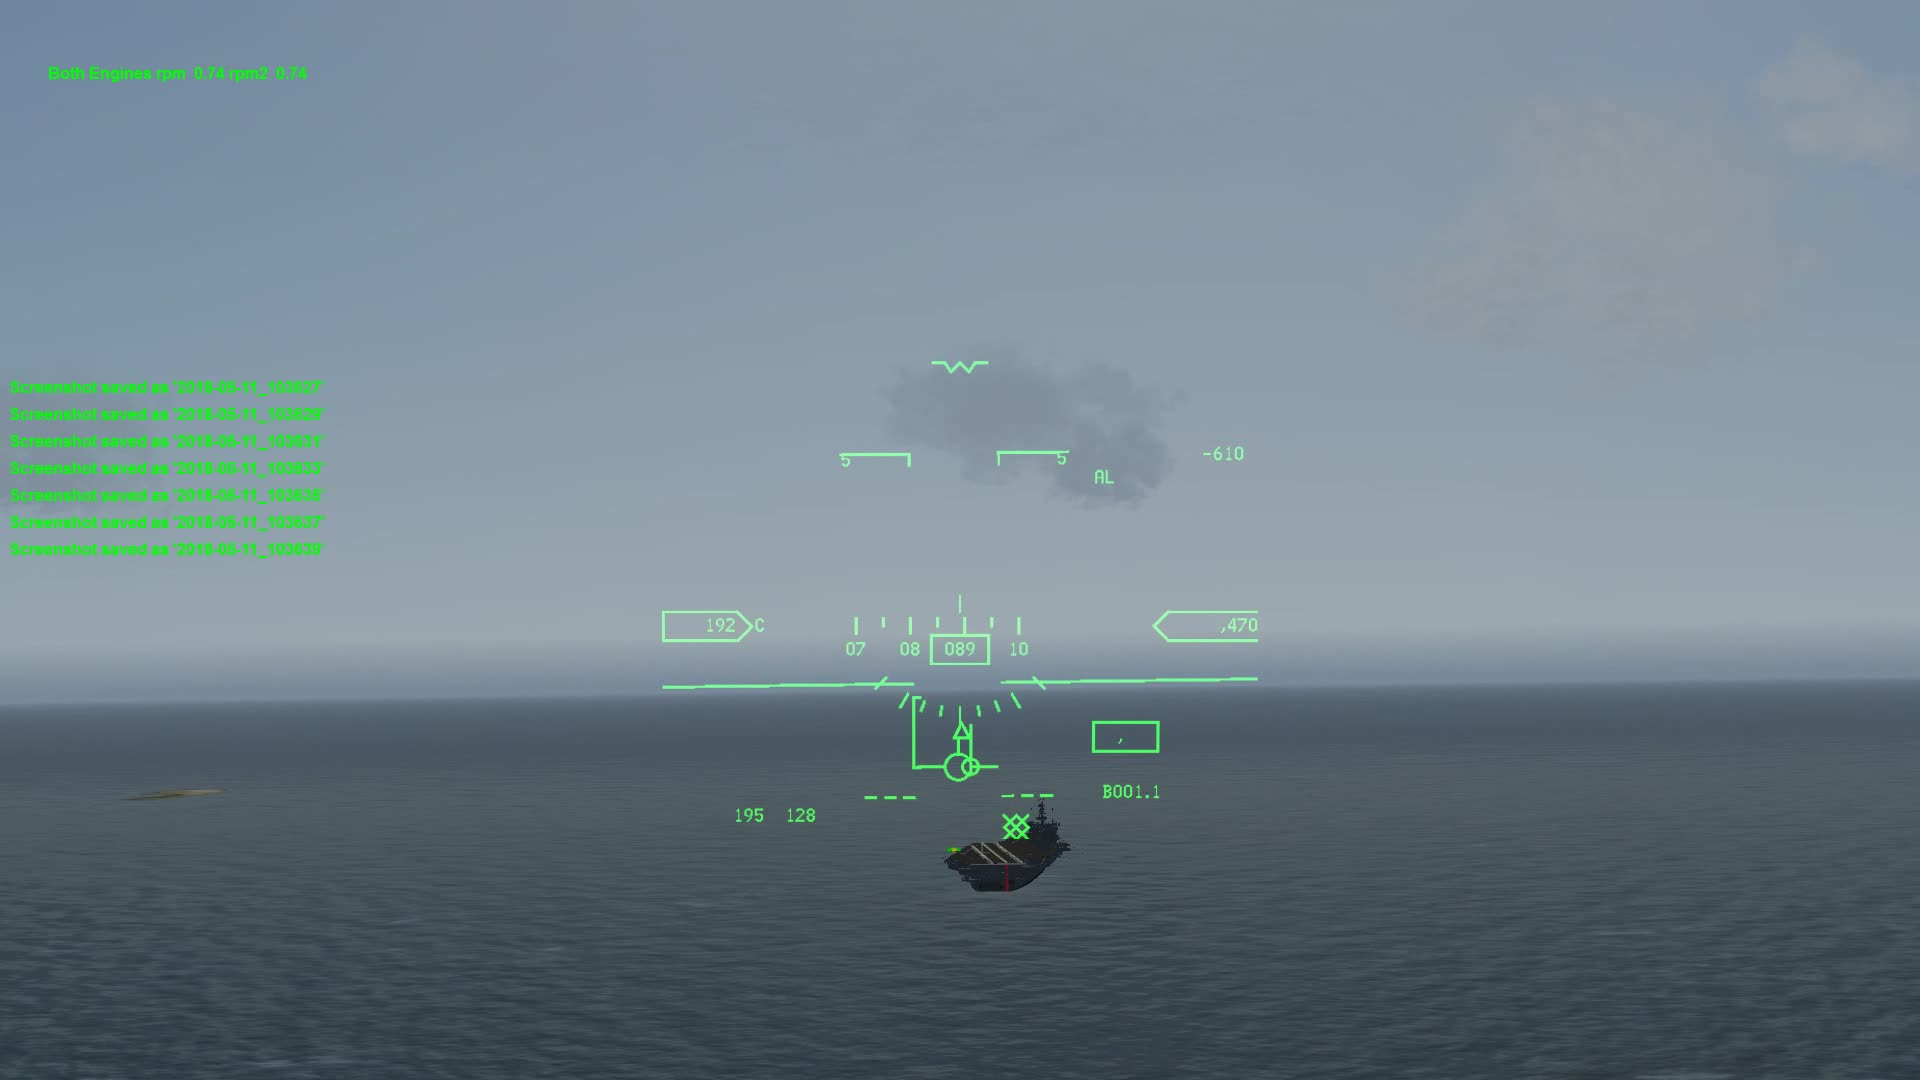speed vector: (910, 742, 1007, 785)
